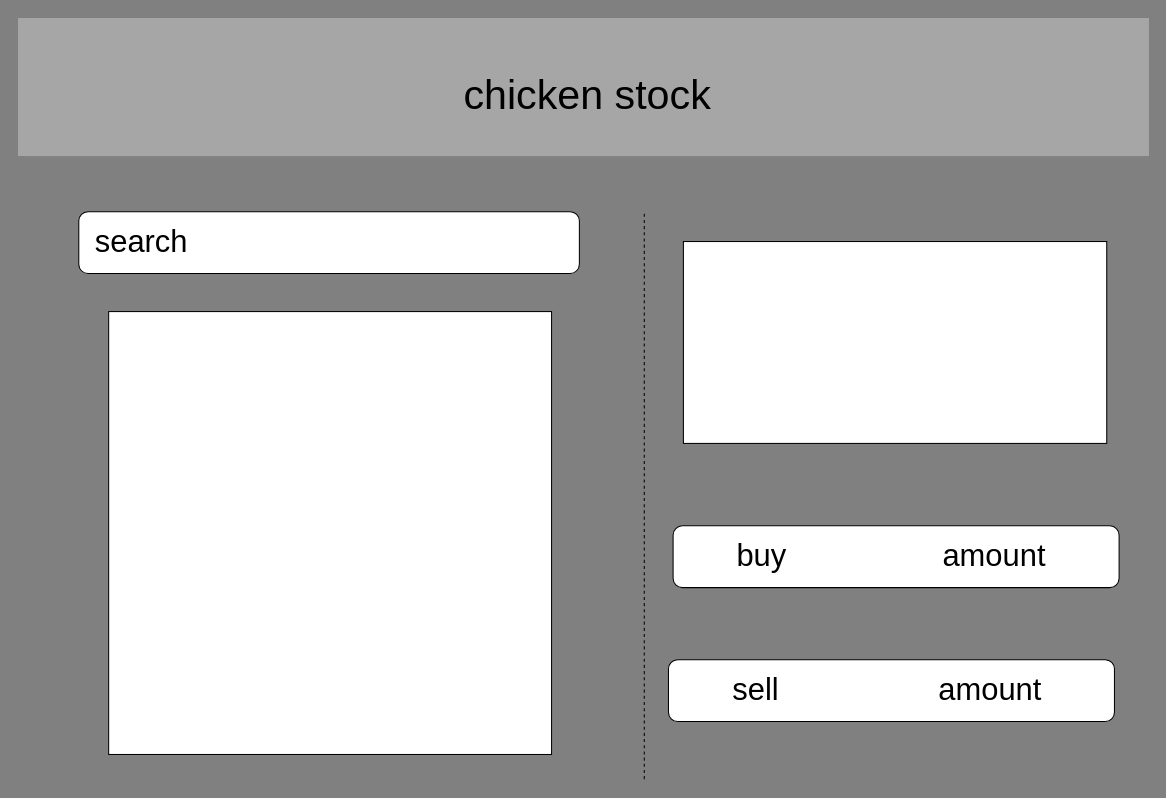
Some shapes in this 1166 by 798 pixel diagram are drawn without their labels. Each missing label, with the centre of its shape:
"chart data" belongs at (330,532).
"user table stock/quantity" belongs at (894,342).
